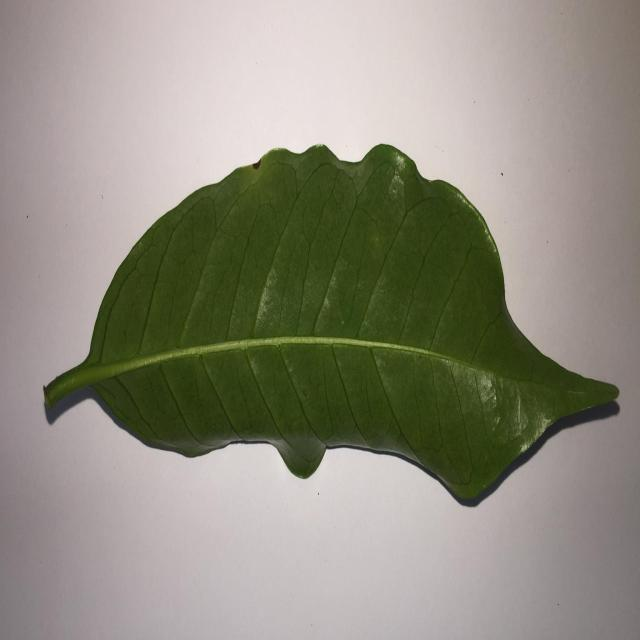nodisease: (44, 144, 619, 504)
